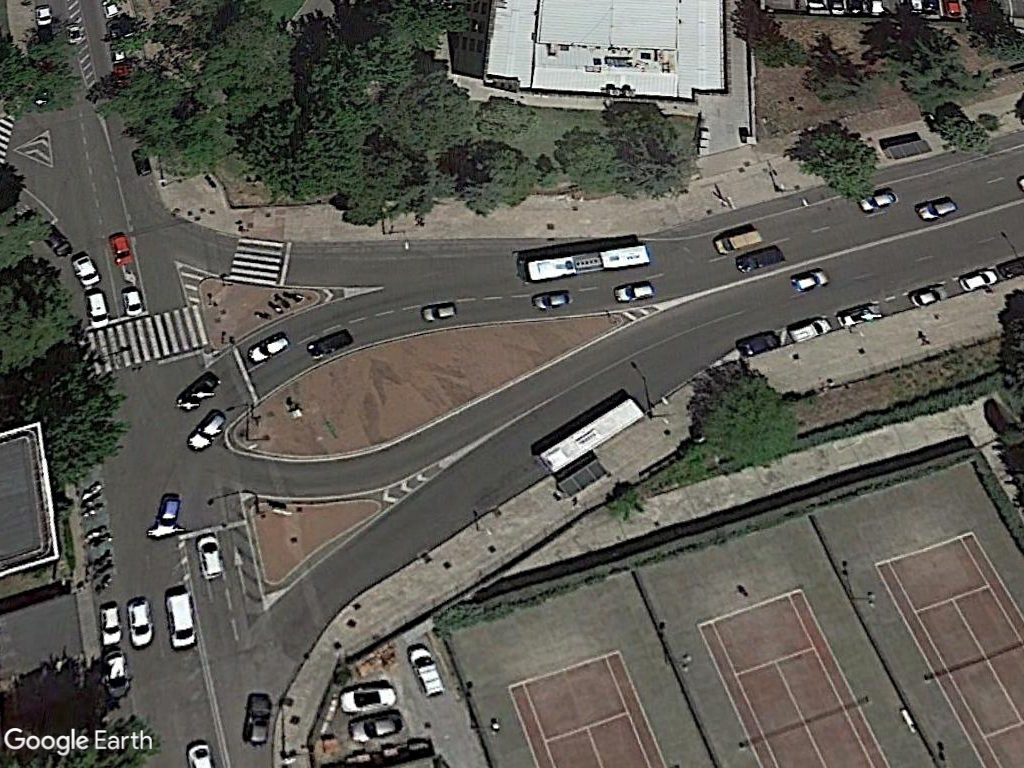bus: (520, 238, 656, 286)
car: (337, 685, 401, 715), (83, 289, 113, 332)
van: (403, 644, 447, 698), (162, 591, 198, 652), (124, 594, 156, 652)
